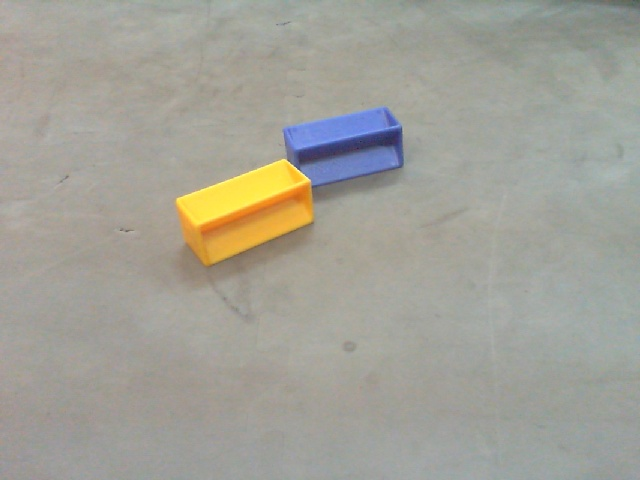BlueSample: (281, 106, 412, 187)
YellowSample: (170, 157, 326, 267)
